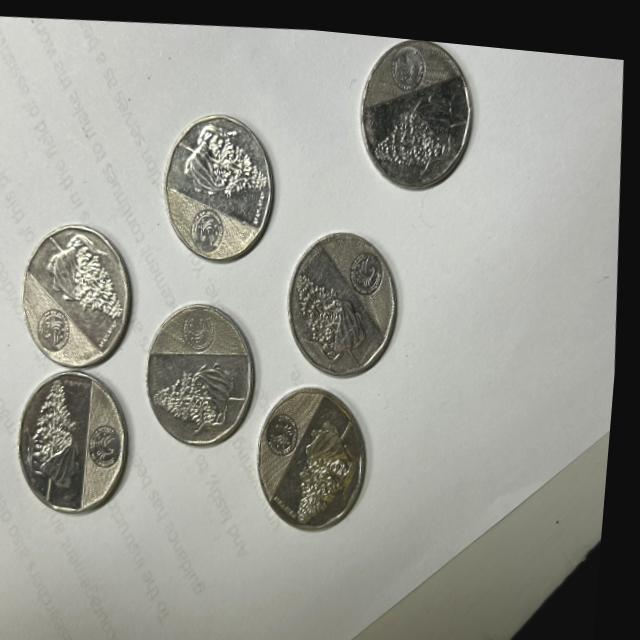10_New_Back: (378, 73, 471, 186), (175, 114, 274, 210), (20, 367, 92, 498), (159, 344, 256, 439), (294, 391, 368, 515), (300, 256, 373, 369), (40, 231, 129, 318)
